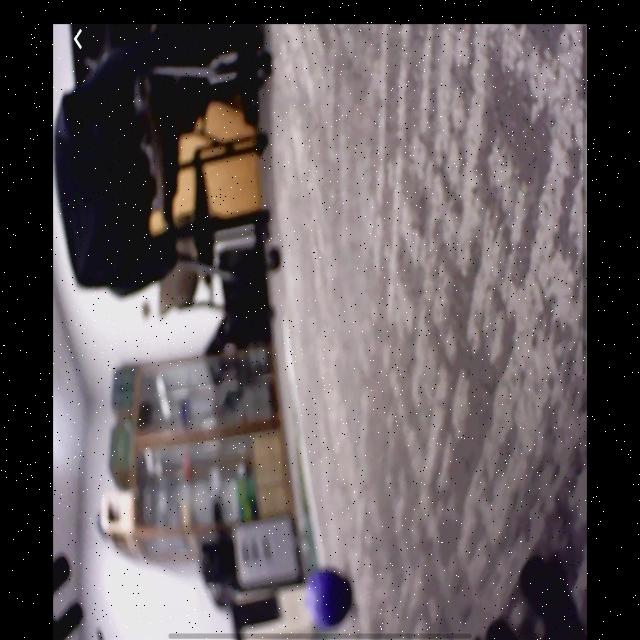ball: (307, 571, 349, 627)
